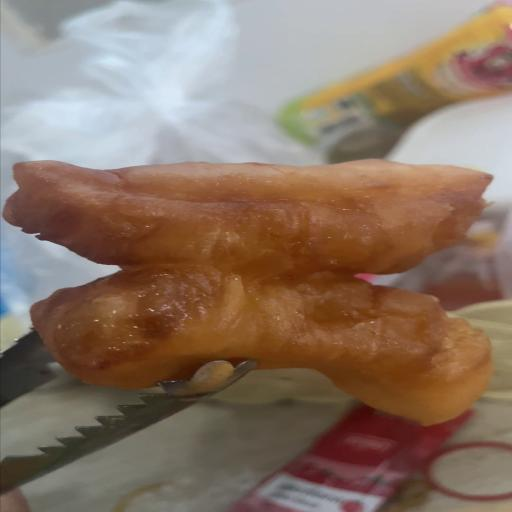street_burnt_good: (2, 160, 492, 429)
